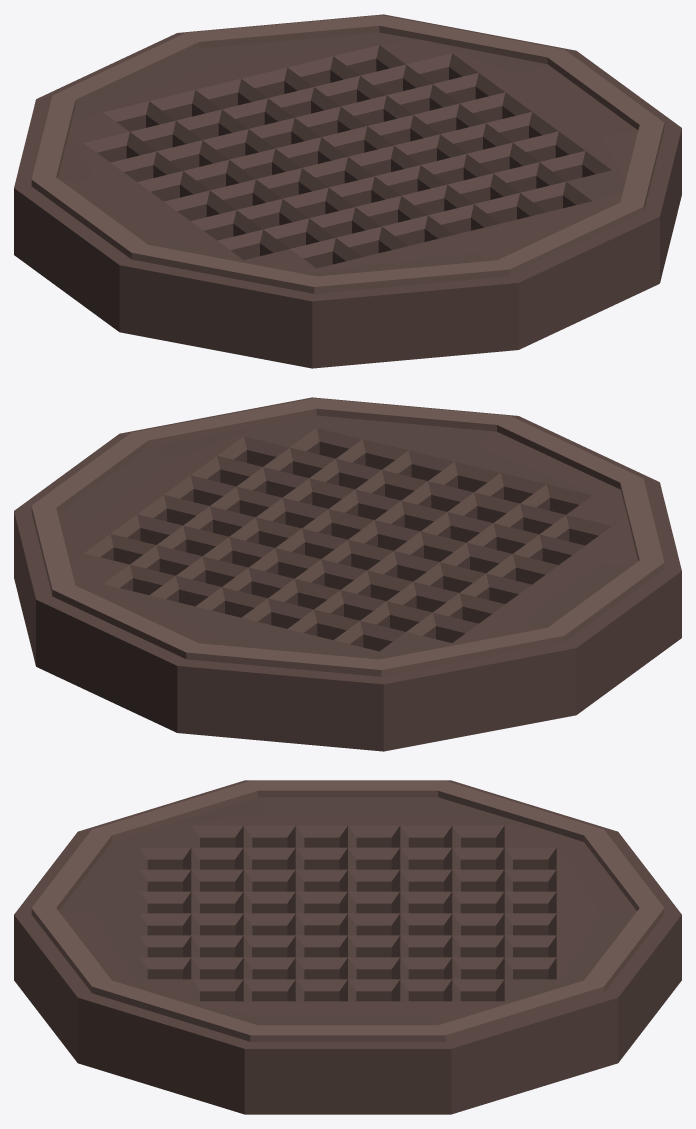
The model's file is Sewage drain.fbx.
The picture shows the model from 3 angles, top to bottom: view 1: azimuth 30°, elevation 25°; view 2: azimuth 150°, elevation 25°; view 3: azimuth 270°, elevation 25°; orthographic projection. The views are drawn at different scales.
Parts seen in each view (by area): view 1: Cylinder; view 2: Cylinder; view 3: Cylinder.
Boxes of the visible parts, x1,y1,x2,y2 form: Cylinder: [14, 14, 681, 368]; Cylinder: [14, 397, 681, 751]; Cylinder: [14, 780, 681, 1114].
Size of the model in its own units: 342 by 42.91 by 359.
